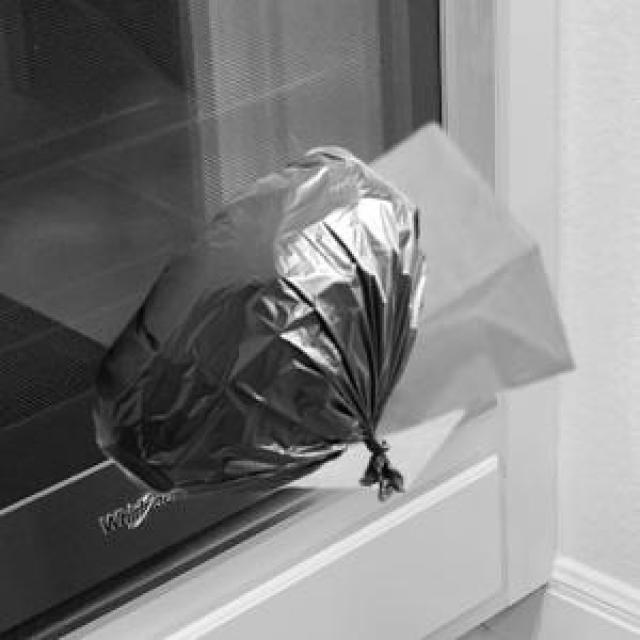miscellaneous trash: (88, 143, 422, 497)
paper: (365, 120, 568, 433), (277, 403, 461, 486)
